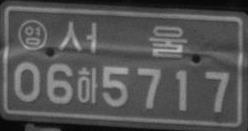0: (12, 61, 41, 104)
1: (168, 68, 196, 111)
5: (101, 64, 130, 109)
6: (45, 62, 73, 105)
7: (203, 70, 231, 113), (136, 66, 162, 109)
서울_D: (56, 19, 188, 59)
영: (17, 18, 48, 52)
하: (76, 66, 98, 105)
